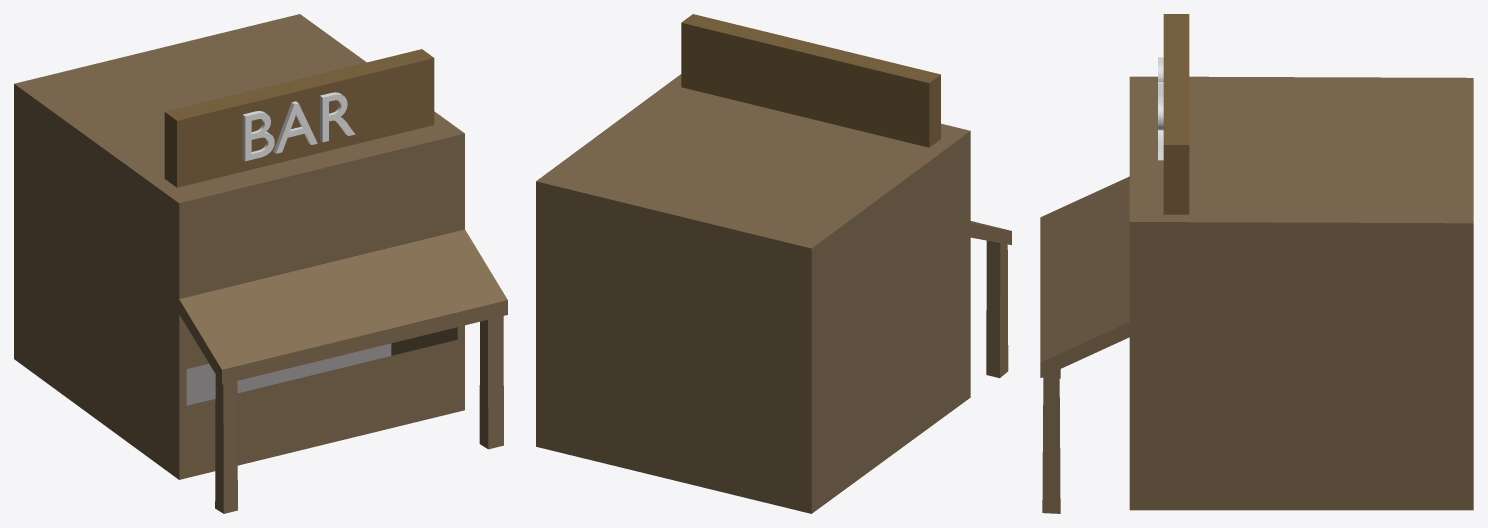
Rendered from Bar.fbx.
3 renders of one model, left to right at view 1: azimuth 30°, elevation 25°; view 2: azimuth 150°, elevation 25°; view 3: azimuth 270°, elevation 25°, orthographic. The views are drawn at different scales.
Visible parts, largest first — view 1: Bar; view 2: Bar; view 3: Bar.
Boxes of the visible parts, <box> form: Bar: <box>14,14,507,513</box>; Bar: <box>536,14,1011,513</box>; Bar: <box>1040,14,1473,513</box>.
Size of the model in its own units: 402 by 468 by 506.
